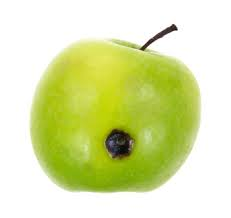damaged_apple: (32, 37, 204, 192)
